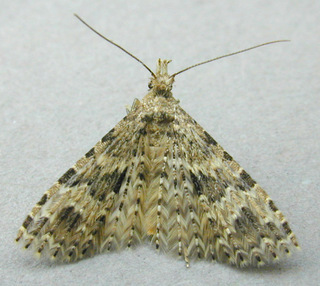Alucitidae: (10, 11, 297, 272)
moth: (8, 9, 295, 270)
